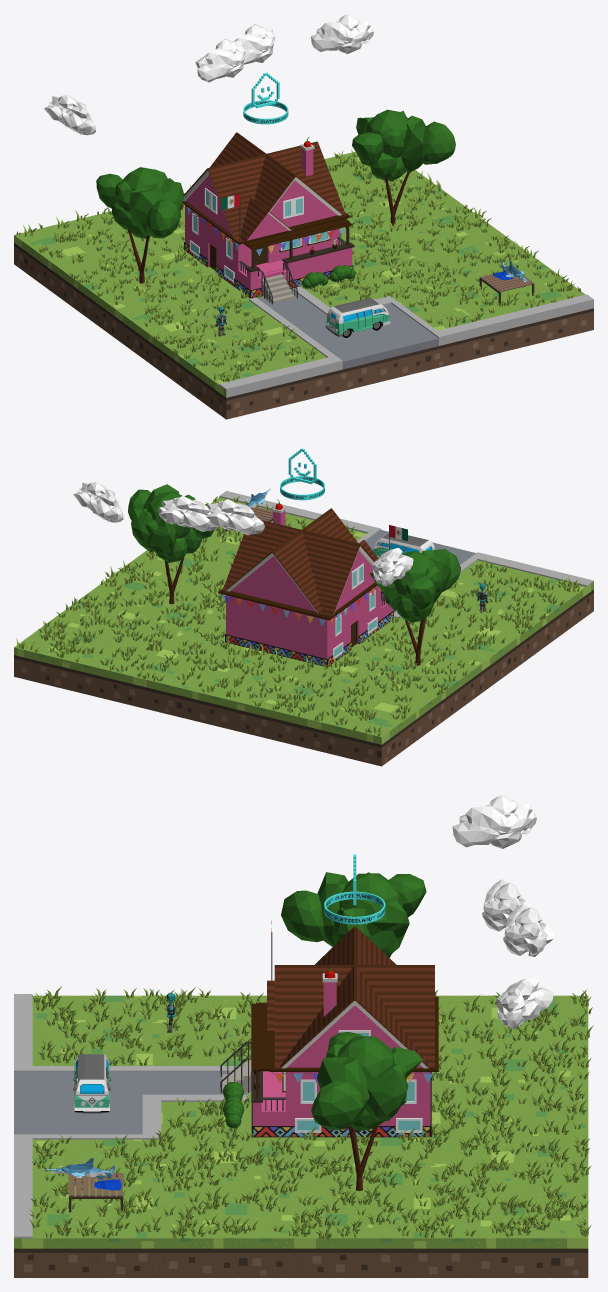
The picture shows the model from 3 angles, top to bottom: view 1: azimuth 30°, elevation 25°; view 2: azimuth 150°, elevation 25°; view 3: azimuth 270°, elevation 25°; orthographic projection. The views are drawn at different scales.
Parts seen in each view (by area): view 1: Cube.006, Cube.1005, Circle.012_Grass_0.192, Cube.007, tree, tree.001, VEHICLES_VAN, TYPE_PREMIUM, Cube.009; view 2: Cube.006, Cube.1005, Circle.012_Grass_0.192, Cube.007, tree.001, tree, TYPE_PREMIUM, VEHICLES_VAN; view 3: Cube.006, Circle.012_Grass_0.192, Cube.1005, tree, Cube.007, tree.001, VEHICLES_VAN, TYPE_PREMIUM, Cube.009, ANIMAL_PEZ_ESPADA.
Boxes of the visible parts, bbox=[...] form: Cube.006: bbox=[14, 151, 593, 419]; Cube.1005: bbox=[181, 132, 354, 304]; Circle.012_Grass_0.192: bbox=[16, 149, 580, 381]; Cube.007: bbox=[44, 14, 373, 135]; tree: bbox=[352, 109, 455, 225]; tree.001: bbox=[96, 167, 184, 283]; VEHICLES_VAN: bbox=[325, 297, 390, 337]; TYPE_PREMIUM: bbox=[243, 72, 288, 124]; Cube.009: bbox=[479, 274, 534, 303]; Cube.006: bbox=[14, 491, 593, 766]; Cube.1005: bbox=[218, 499, 407, 666]; Circle.012_Grass_0.192: bbox=[16, 496, 580, 736]; Cube.007: bbox=[73, 481, 413, 586]; tree.001: bbox=[370, 549, 460, 665]; tree: bbox=[128, 484, 214, 604]; TYPE_PREMIUM: bbox=[280, 448, 324, 500]; VEHICLES_VAN: bbox=[373, 532, 435, 558]; Cube.006: bbox=[14, 994, 588, 1277]; Circle.012_Grass_0.192: bbox=[29, 986, 593, 1239]; Cube.1005: bbox=[220, 920, 438, 1137]; tree: bbox=[311, 1032, 422, 1190]; Cube.007: bbox=[452, 795, 553, 1029]; tree.001: bbox=[281, 872, 426, 957]; VEHICLES_VAN: bbox=[73, 1054, 110, 1113]; TYPE_PREMIUM: bbox=[324, 854, 385, 924]; Cube.009: bbox=[69, 1172, 122, 1212]; ANIMAL_PEZ_ESPADA: bbox=[42, 1158, 121, 1190].
Size of the model in its own units: 4071 by 2301 by 4040.
Materials: 81 (6 with a texture image).
